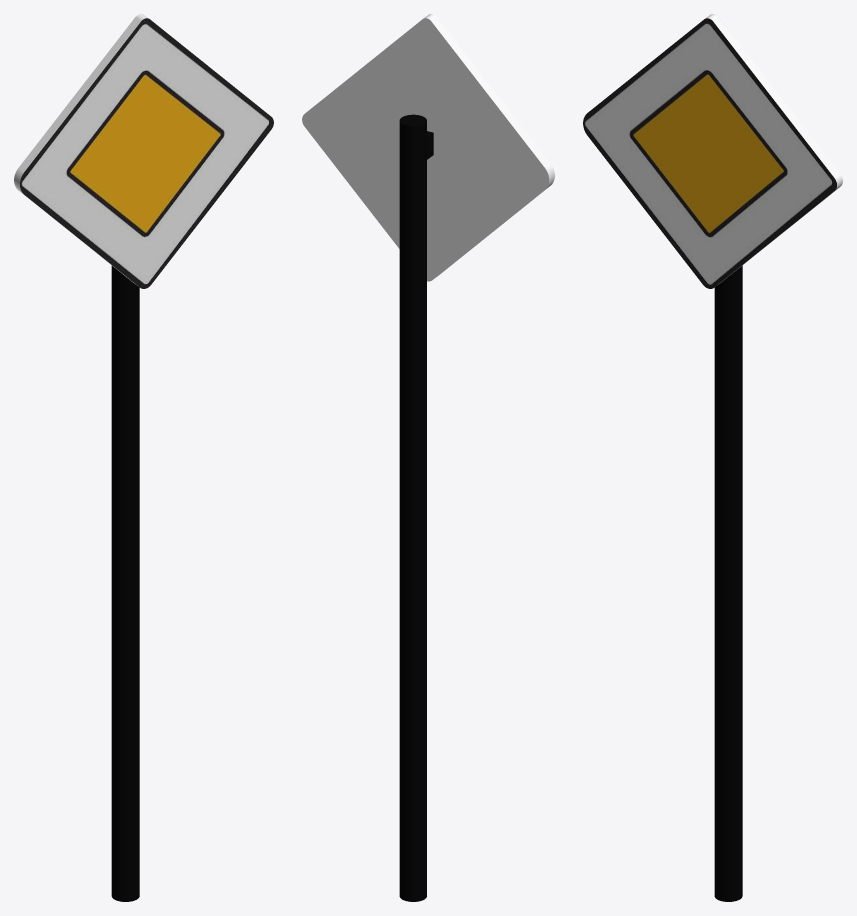
Rendered from ZnackaUnreal.fbx.
3 views of the same model, side by side, from view 1: azimuth 30°, elevation 25°; view 2: azimuth 150°, elevation 25°; view 3: azimuth 330°, elevation 25° (orthographic). The views are drawn at different scales.
Visible parts, largest first — view 1: hlznacka2; view 2: hlznacka2; view 3: hlznacka2.
Boxes of the visible parts, x1,y1,x2,y2 form: hlznacka2: [14, 14, 273, 901]; hlznacka2: [302, 14, 554, 901]; hlznacka2: [583, 14, 842, 901].
Size of what is drawn, in the model's own units: 93.19 by 17.07 by 313.
Materials: 2 (1 with a texture image).
